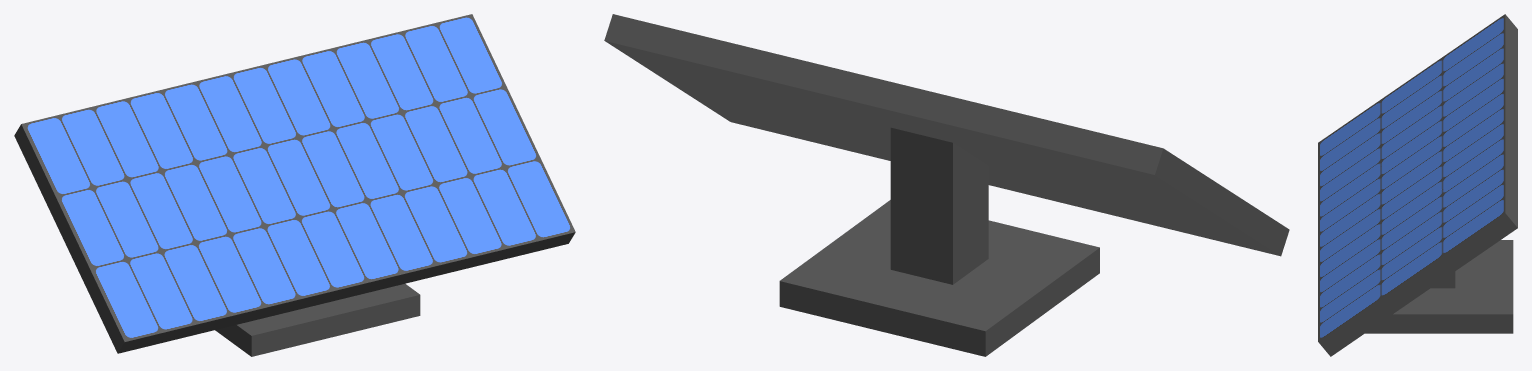
The model's file is Solar Panel.fbx.
3 views of the same model, side by side, from view 1: azimuth 30°, elevation 25°; view 2: azimuth 150°, elevation 25°; view 3: azimuth 270°, elevation 25° (orthographic). The views are drawn at different scales.
Visible parts, largest first — view 1: Solar Panel; view 2: Solar Panel; view 3: Solar Panel.
Part boxes in pixels (bbox=[...]): Solar Panel: bbox=[14, 14, 575, 356]; Solar Panel: bbox=[604, 14, 1289, 356]; Solar Panel: bbox=[1318, 14, 1517, 356].
Size of the model in its own units: 120 by 51.54 by 51.1.
